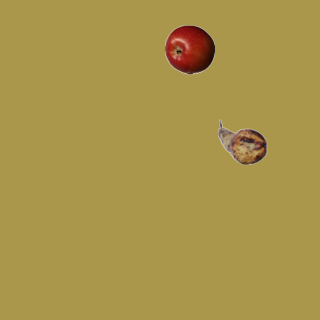Apple Braeburn: (164, 24, 214, 74)
Pear Abate: (217, 117, 267, 167)
